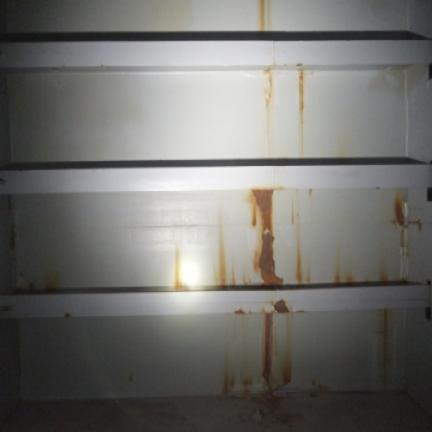karat: (251, 185, 285, 288)
